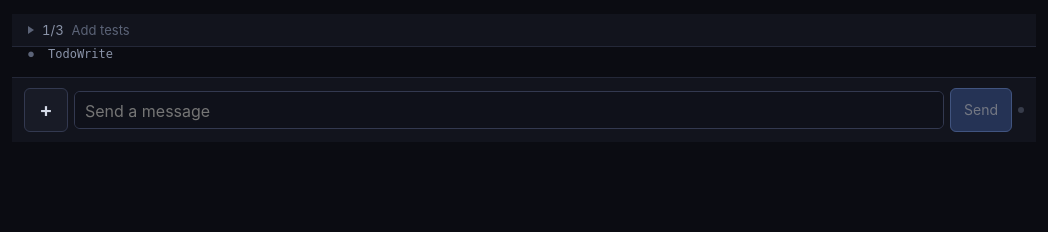
the pinned todo checklist › expands to show every item, styled by status
Click the button with class "feed-todos-head".
click(101, 30)  # box [12,14,1036,46]
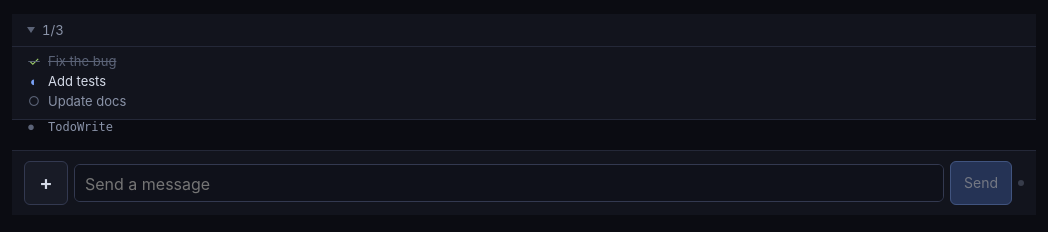
Now the number of elements with class "feed-todo-item" is 3, box [28,53,116,69]; [30,73,106,89]; [28,93,126,109]
